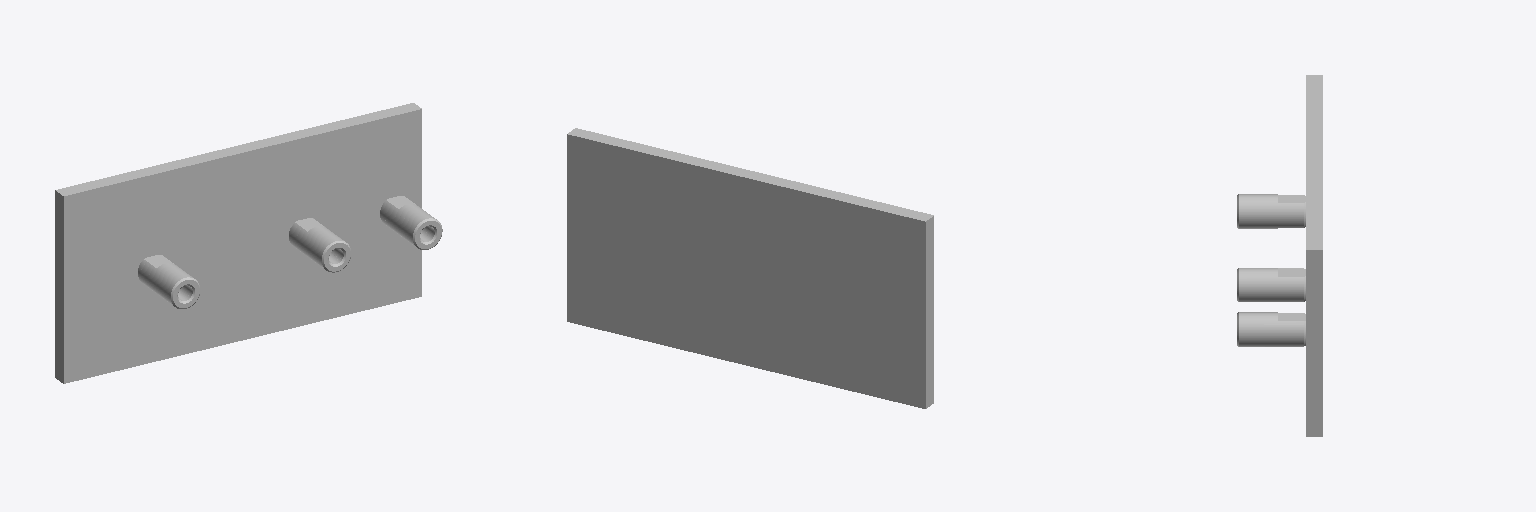
Rendered from factory_gear_base_loose_space_5e-4_subdiv_4x.obj.
The picture shows the model from 3 angles: view 1: azimuth 30°, elevation 25°; view 2: azimuth 150°, elevation 25°; view 3: azimuth 270°, elevation 25°; orthographic projection.
Visible parts, largest first — view 1: mesh21, mesh18, mesh19, mesh6.001, mesh6, mesh6.000; view 2: mesh22, mesh18, mesh19; view 3: mesh17, mesh18, mesh6.000, mesh6, mesh6.001.
Boxes of the visible parts, box(x1,y1,x2,y2) form: mesh21: box(64, 109, 421, 383); mesh18: box(56, 103, 421, 195); mesh19: box(55, 190, 63, 383); mesh6.001: box(289, 218, 343, 267); mesh6: box(138, 257, 192, 304); mesh6.000: box(380, 200, 436, 246); mesh22: box(567, 134, 925, 408); mesh18: box(568, 128, 933, 221); mesh19: box(926, 216, 933, 408); mesh17: box(1306, 250, 1322, 436); mesh18: box(1306, 75, 1322, 249); mesh6.000: box(1239, 312, 1303, 346); mesh6: box(1239, 194, 1303, 228); mesh6.001: box(1239, 268, 1303, 301).
Size of the model in its own units: 0.12 by 0.06 by 0.025.